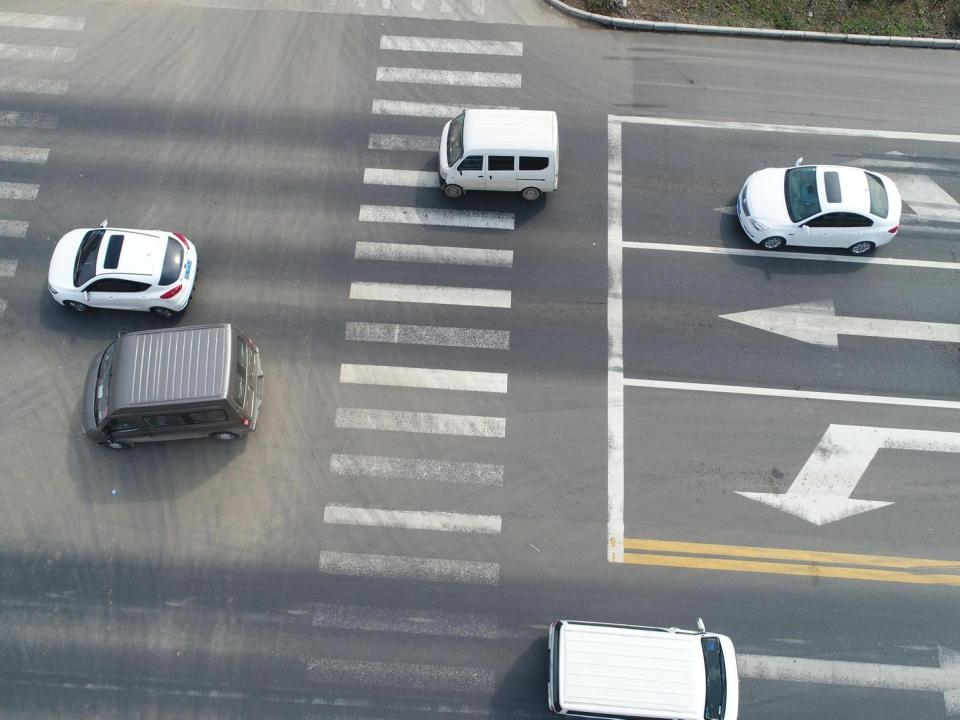car: (41, 216, 201, 319), (738, 158, 901, 252)
van: (80, 324, 264, 450), (545, 614, 740, 719), (435, 106, 561, 205)
